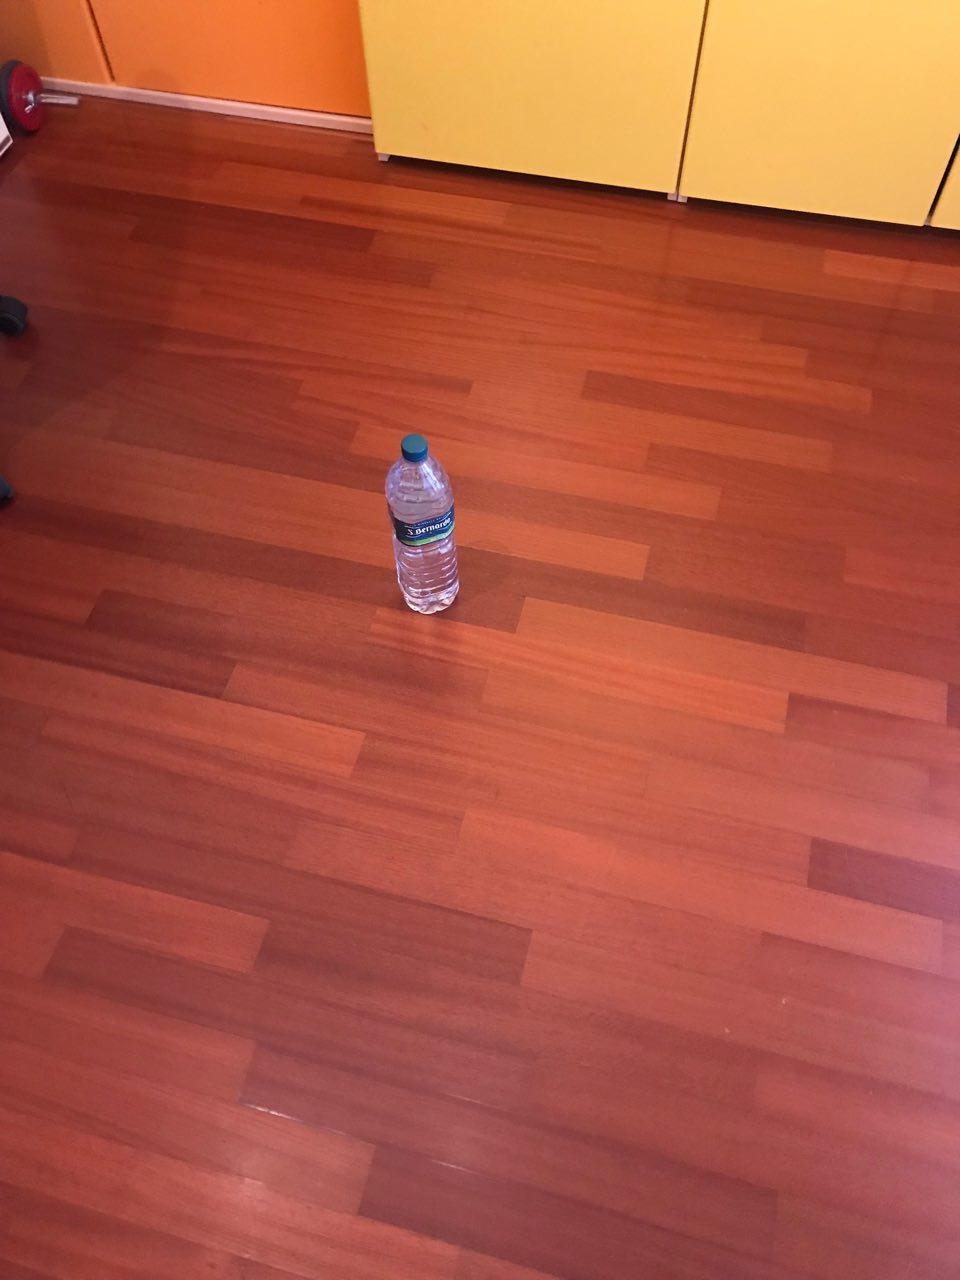san_bernardo: (384, 433, 461, 615)
